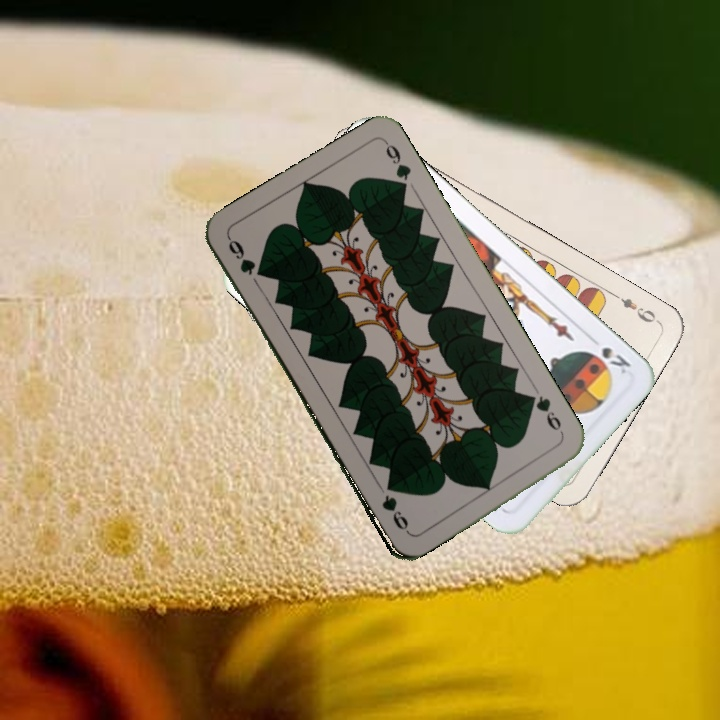E9: (608, 289, 662, 326)
G9: (524, 391, 567, 441), (224, 233, 258, 278)
SK: (583, 343, 634, 377)
